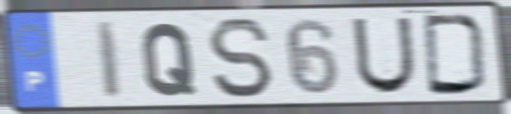6: (282, 16, 342, 98)
D: (420, 12, 492, 98)
I: (93, 19, 125, 102)
Q: (138, 21, 198, 99)
S: (204, 15, 276, 102)
U: (349, 15, 417, 97)
